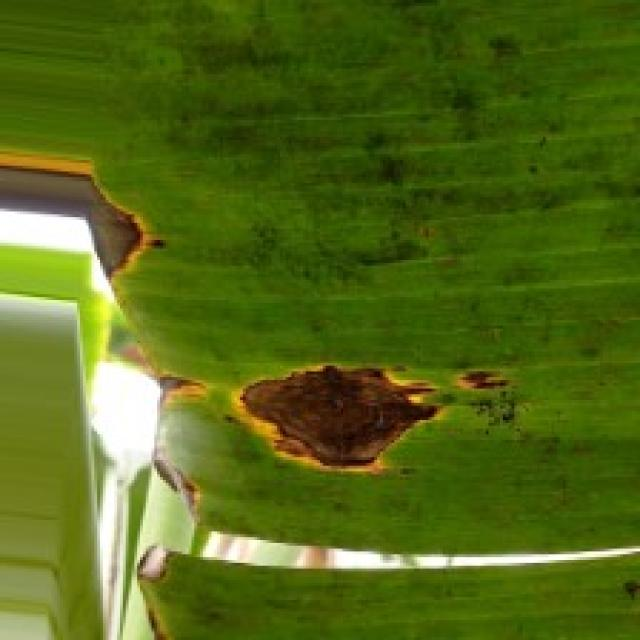Bacterial_spot: (235, 356, 451, 487), (0, 158, 175, 298), (450, 358, 532, 420), (147, 455, 219, 523), (127, 581, 199, 640), (144, 368, 228, 417), (122, 541, 186, 596), (606, 564, 640, 616)
